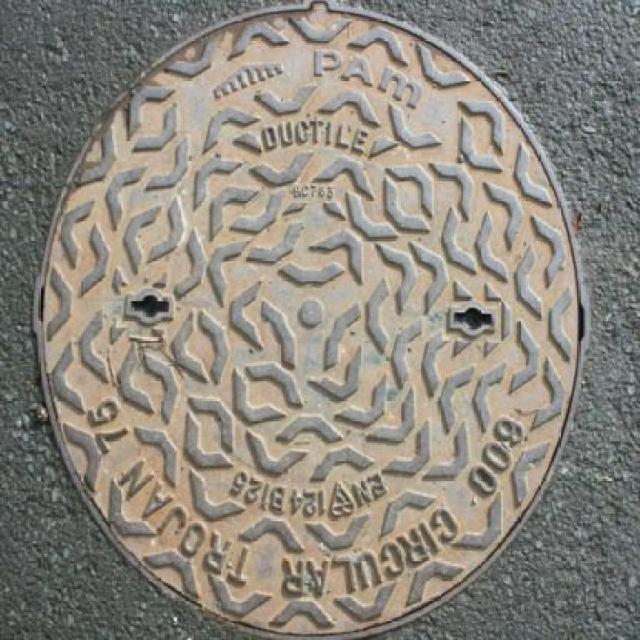Manhole: (33, 4, 587, 640)
